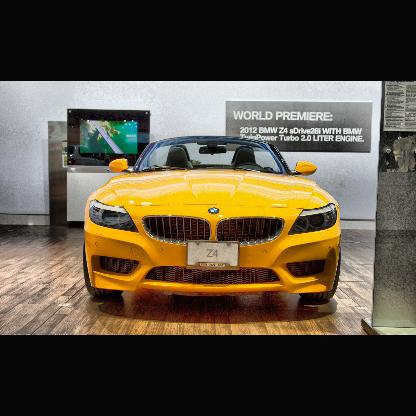BMW Z4 Convertible 2012: (83, 135, 342, 317)
